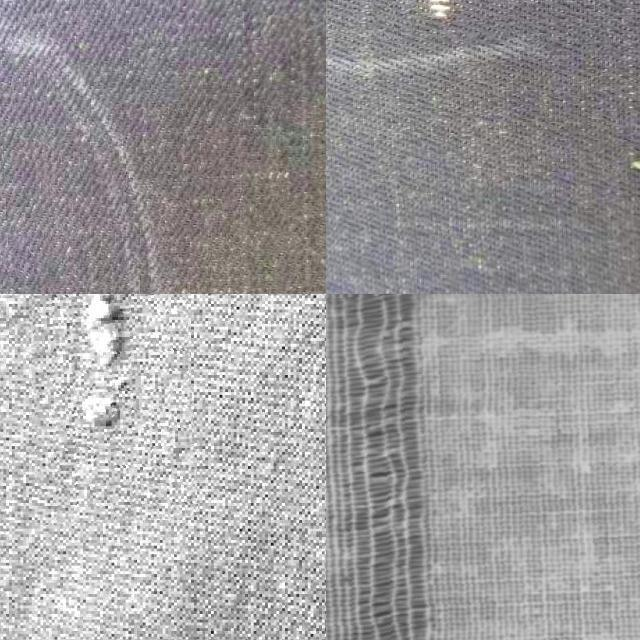stains: (326, 294, 640, 640), (28, 294, 194, 523), (372, 0, 508, 39)
